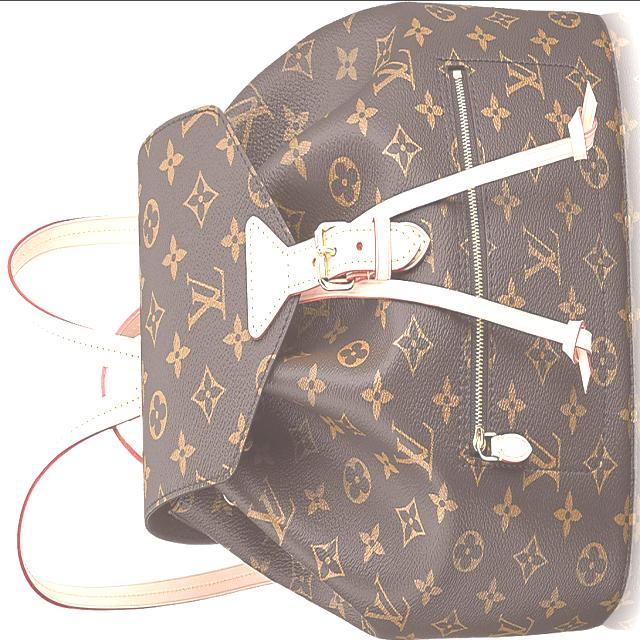backpack: (8, 5, 636, 640)
